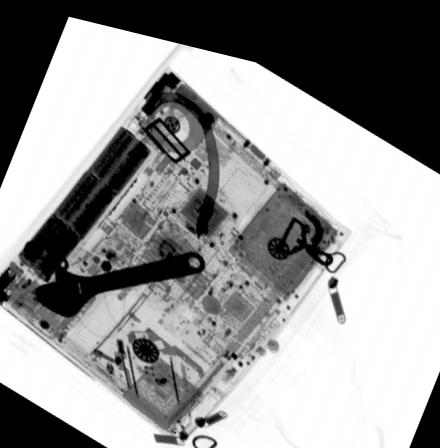Wrench: (34, 239, 206, 315)
